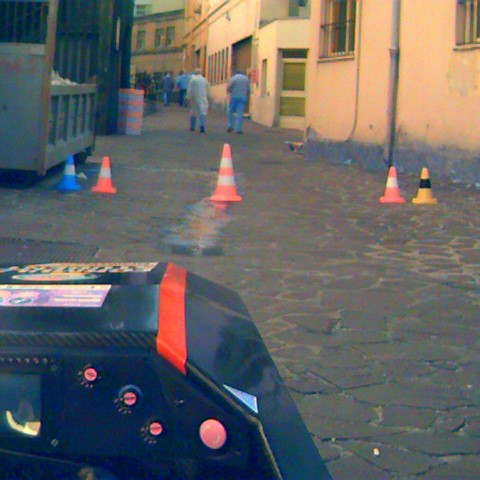cone: (55, 154, 81, 190)
